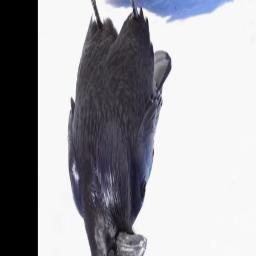Crow: (67, 0, 173, 256)
